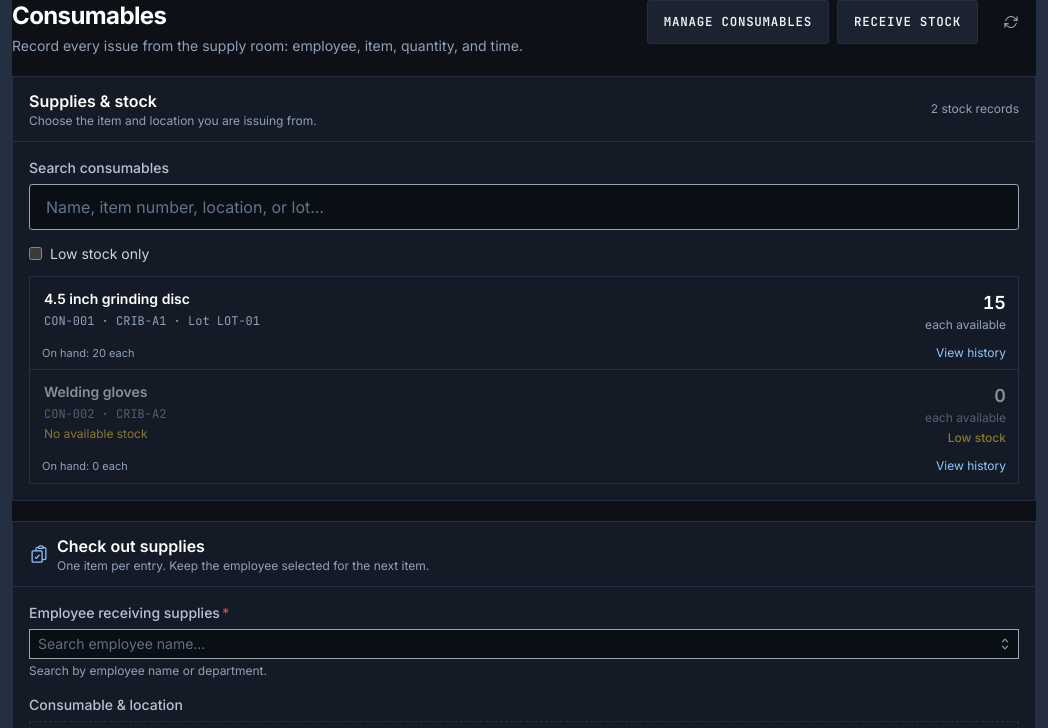
records recipient, item and quantity, then refreshes stock and timestamped attribution
Click the dropdown labelled "Employee receiving supplies*" at (524, 644), box [29, 628, 1019, 658]
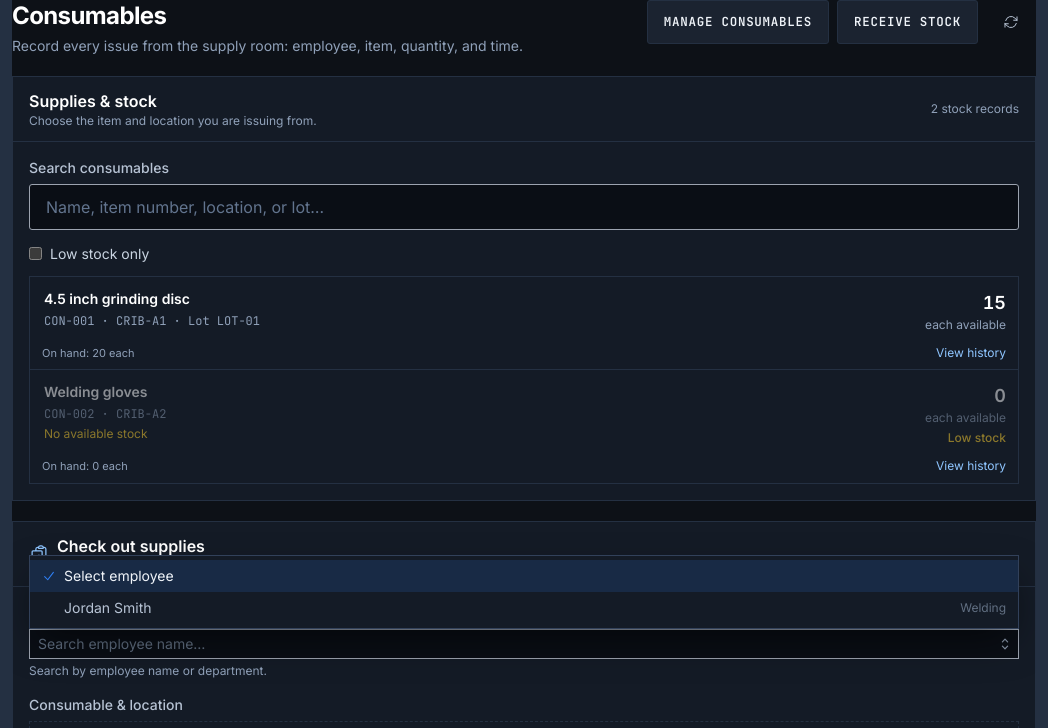
Click the option "Jordan Smith Welding" at (108, 607), box [30, 592, 1018, 624]
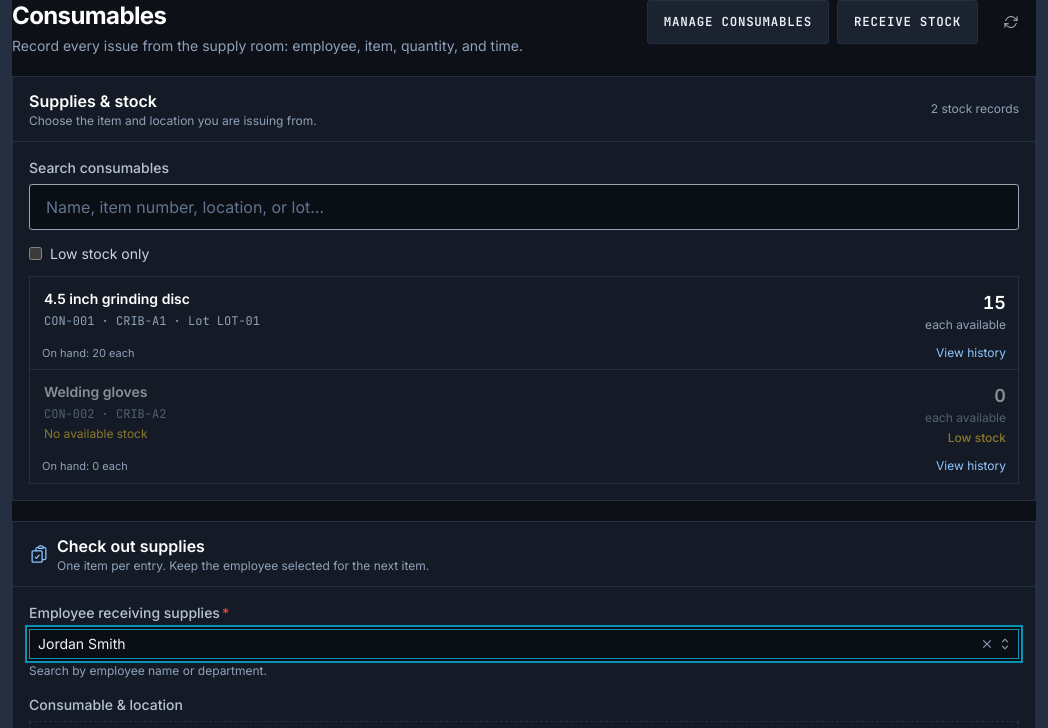
Click the button with aria-label "Select 4.5 inch grinding disc at CRIB-A1" at (117, 298), box [30, 276, 1018, 344]
(page scrolled)
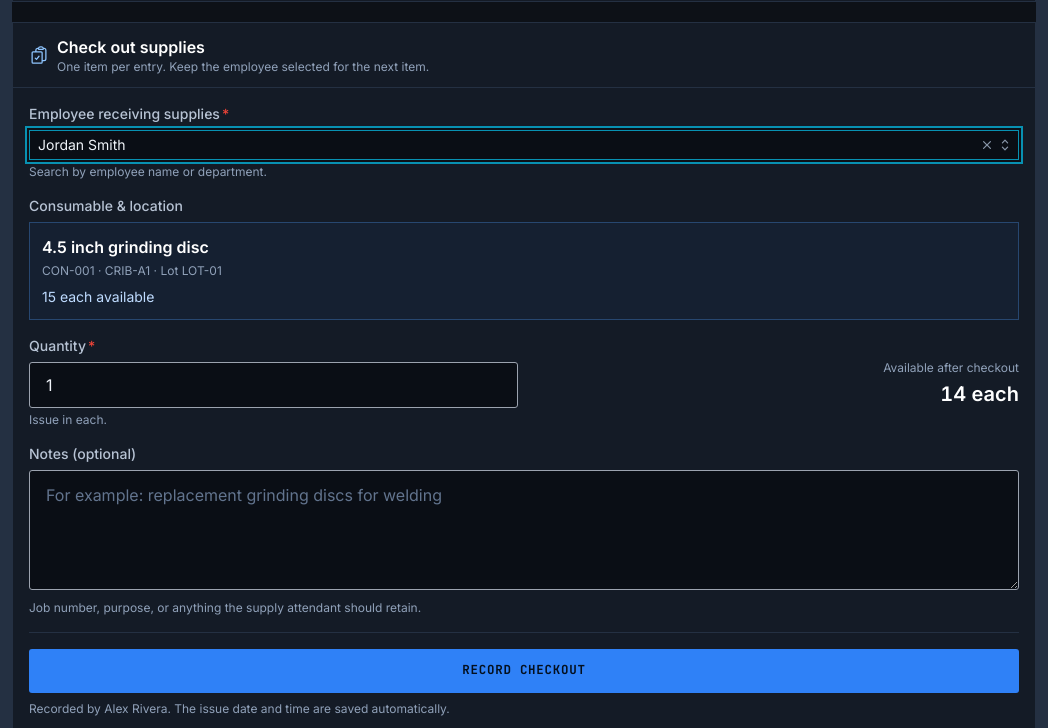
Replace the text in the number field labelled "Quantity*" with "3" at (274, 384), box [29, 362, 518, 408]
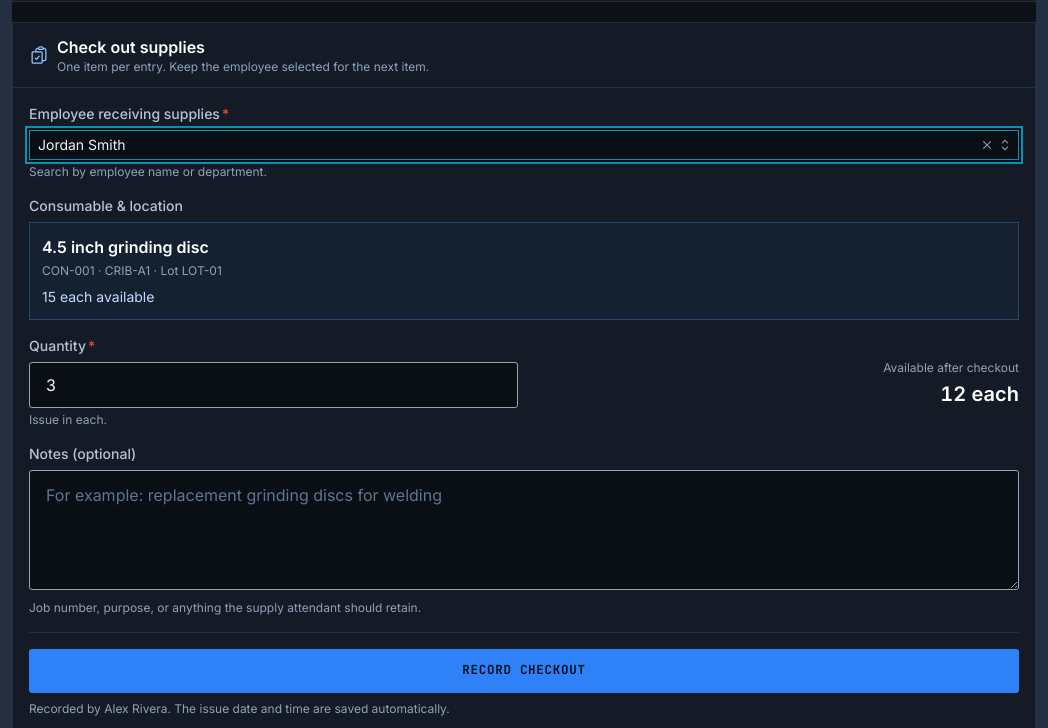
Type "Welding bay 2" into the text box labelled "Notes (optional)" at (524, 530), box [29, 470, 1019, 590]
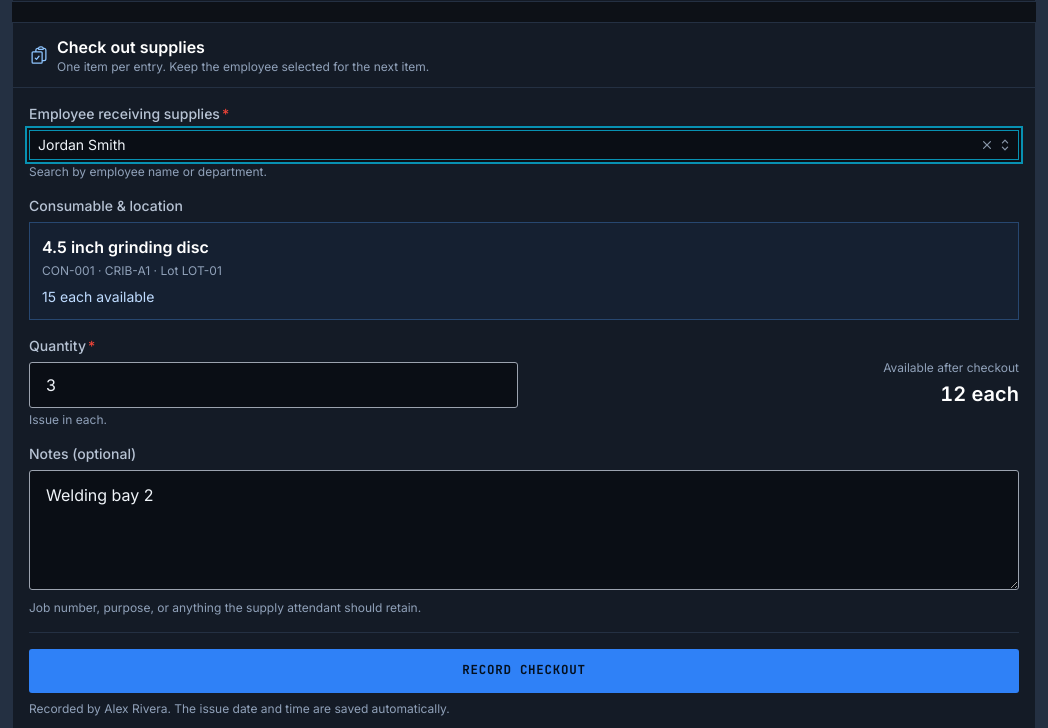
Click the button "Record checkout" at (524, 670), box [29, 648, 1019, 692]
(page scrolled)
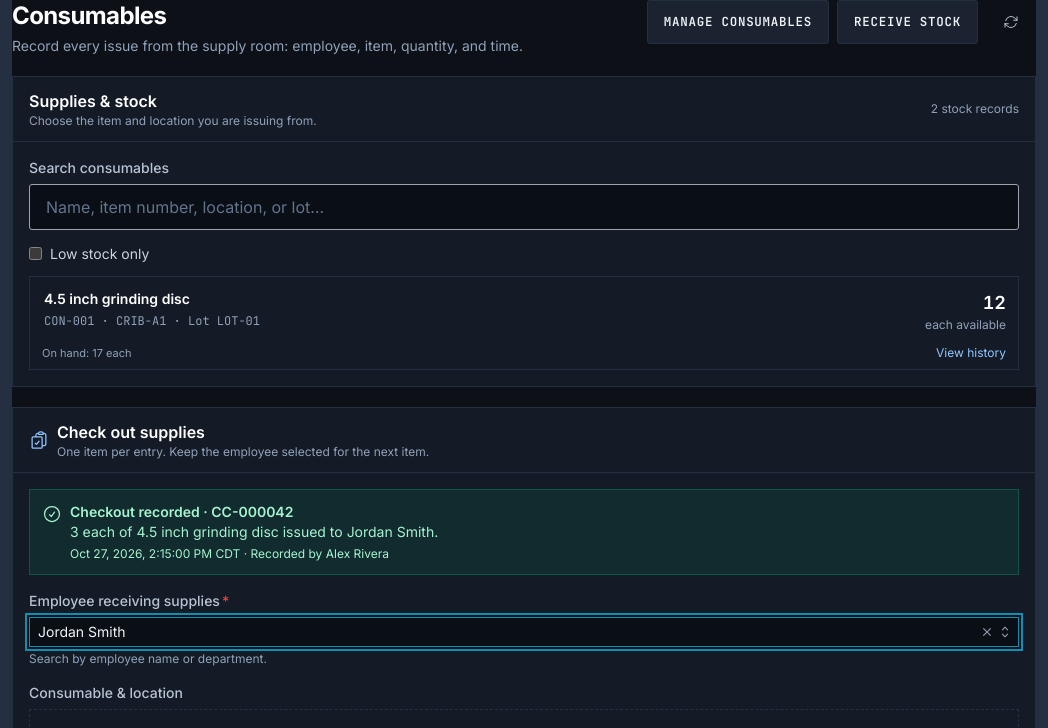
Expected: the text "Checkout recorded · CC-000042" is shown, [70, 503, 293, 520]
Expected: the text "Oct 27, 2026, 2:15:00 PM CDT" is shown, [70, 546, 240, 561]
Expected: the button with aria-label "Select 4.5 inch grinding disc at CRIB-A1" shows "12", [30, 276, 1018, 344]
